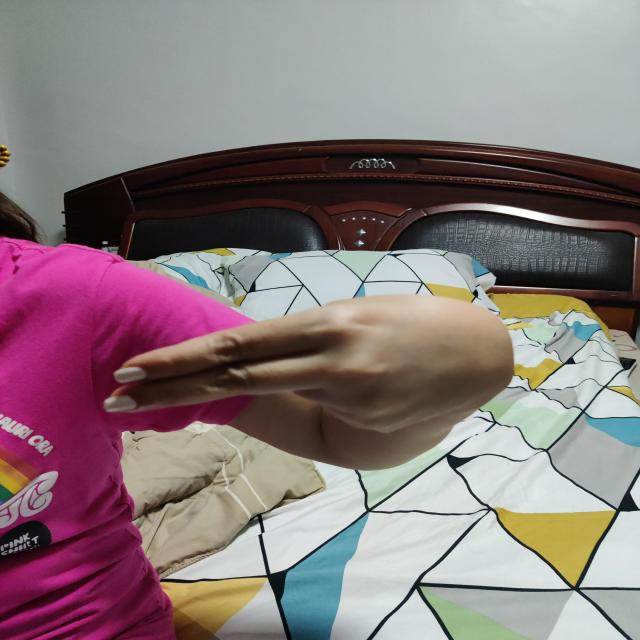H: (101, 292, 516, 434)
